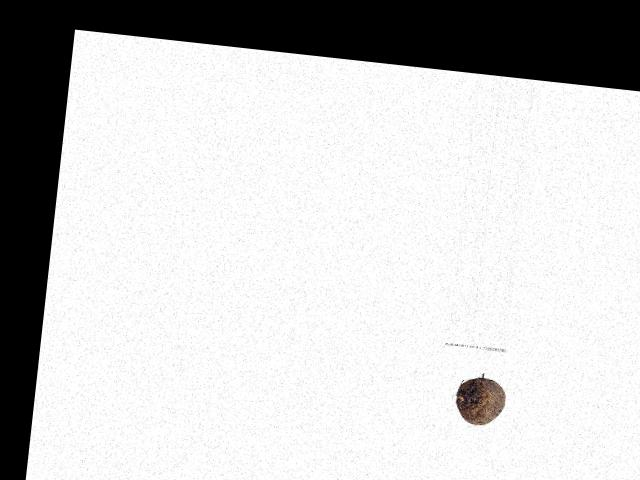beet: (454, 375, 508, 427)
